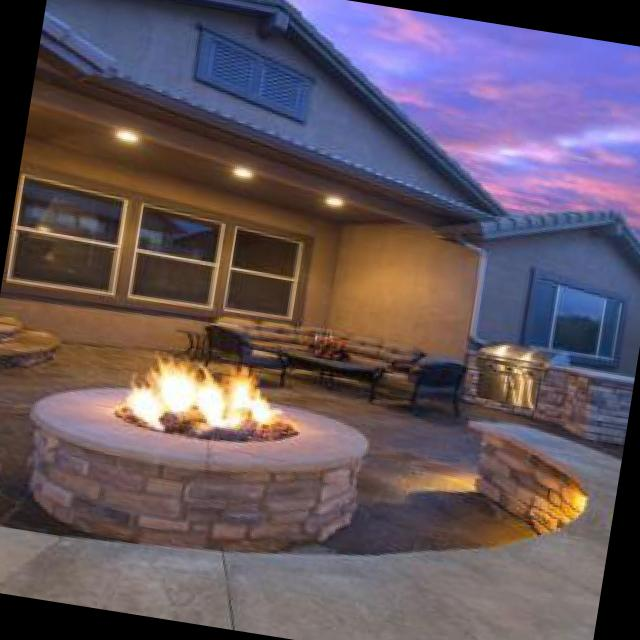Fire: (117, 342, 308, 463)
